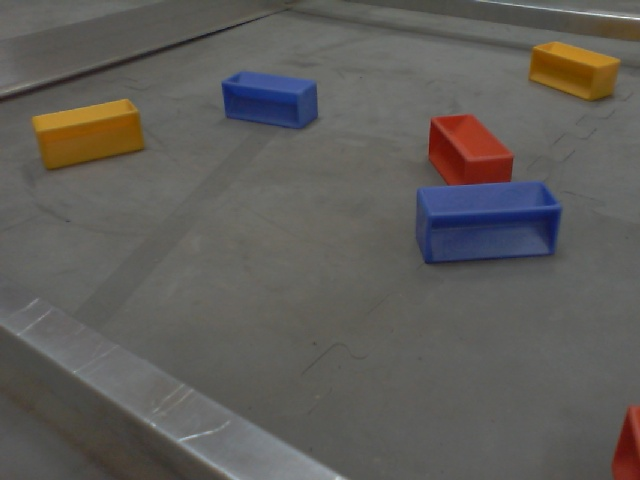BlueSample: (413, 178, 563, 266), (219, 69, 320, 133)
RedSample: (422, 109, 519, 190), (609, 400, 640, 475)
YellowSample: (27, 95, 148, 172), (525, 38, 622, 103)
